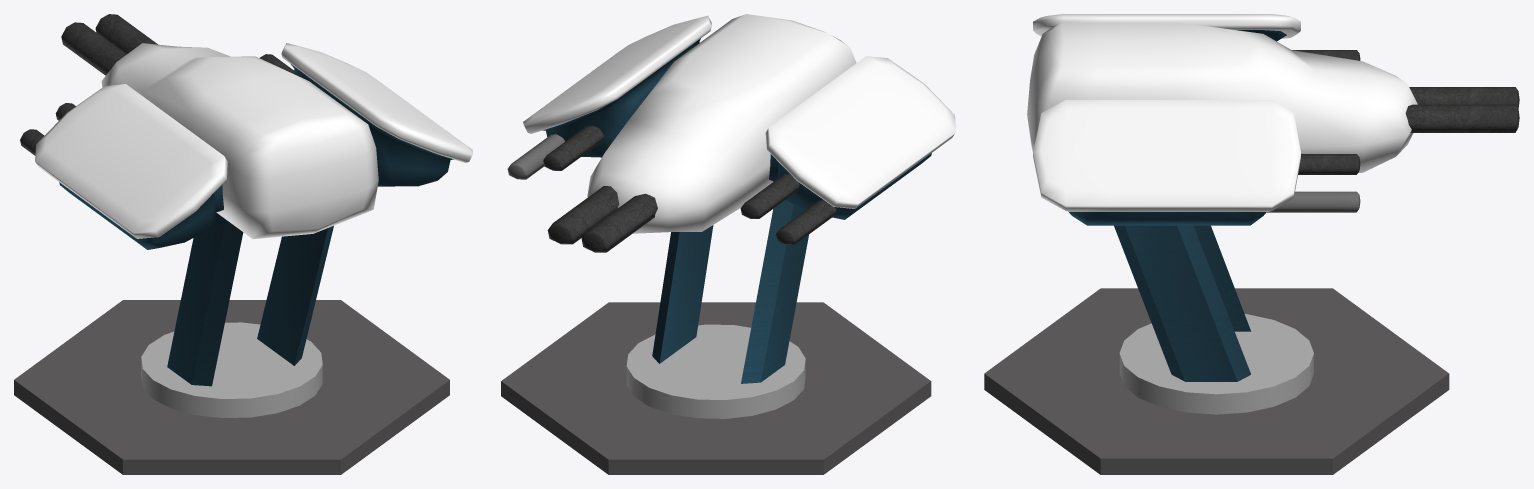
The model's file is basic04.fbx.
3 views of the same model, side by side, from view 1: azimuth 30°, elevation 25°; view 2: azimuth 150°, elevation 25°; view 3: azimuth 270°, elevation 25° (orthographic). The views are drawn at different scales.
Visible parts, largest first — view 1: polySurface577, pCylinder36; view 2: polySurface577, pCylinder36; view 3: polySurface577, pCylinder36.
Part boxes in pixels (box(x1,y1,x2,y2)): polySurface577: box(20, 14, 472, 418); pCylinder36: box(14, 300, 449, 474); polySurface577: box(507, 14, 955, 418); pCylinder36: box(501, 302, 931, 474); polySurface577: box(1027, 14, 1519, 414); pCylinder36: box(984, 288, 1449, 474).
Size of the model in its own units: 12.34 by 11.34 by 15.73.
